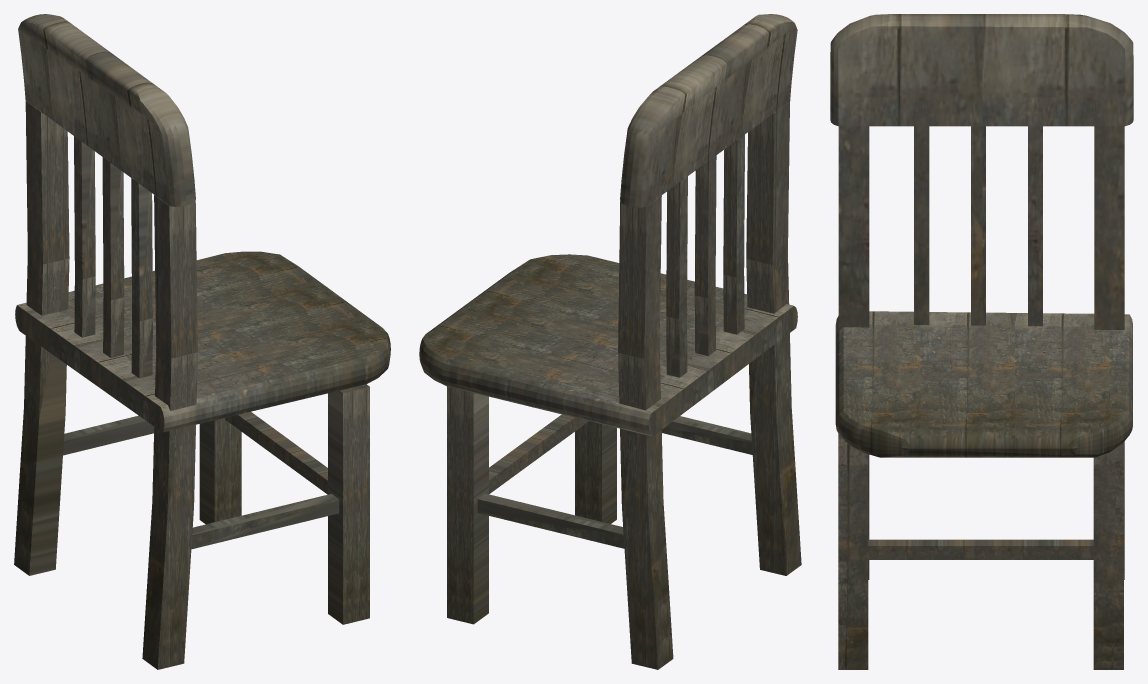
The model's file is chair.glb.
3 renders of one model, left to right at view 1: azimuth 30°, elevation 25°; view 2: azimuth 150°, elevation 25°; view 3: azimuth 270°, elevation 25°, orthographic.
Parts seen in each view (by area): view 1: chair.ms3d.mo; view 2: chair.ms3d.mo; view 3: chair.ms3d.mo.
Part boxes in pixels (x1=…): chair.ms3d.mo: x1=14, y1=14, x2=390, y2=669; chair.ms3d.mo: x1=419, y1=14, x2=801, y2=669; chair.ms3d.mo: x1=830, y1=14, x2=1133, y2=669.
Size of the model in its own units: 199 by 409 by 202.
Materials: 1 (1 with a texture image).
